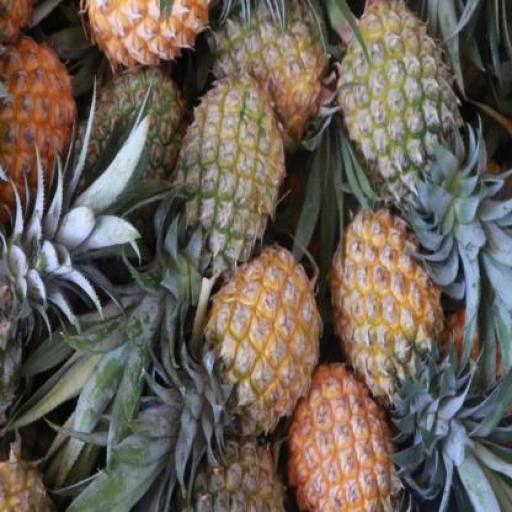------------------------------: (338, 3, 456, 217), (176, 83, 282, 278), (213, 0, 331, 144)
Pineapple - v8 v1: (328, 212, 438, 407), (207, 251, 314, 435), (285, 365, 398, 512), (0, 32, 78, 228)
